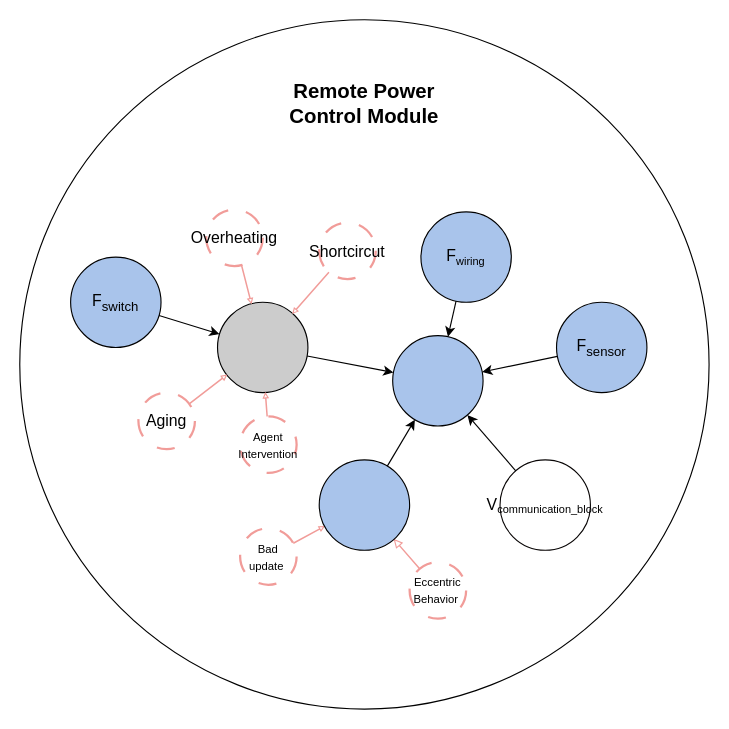
The diagram is 729 pixels wide and 729 high, and some of its shapes have lost their labels. Each missing label, with the box of its shape:
F RPCM: (392, 334, 483, 426)
F software: (318, 459, 410, 550)
H RPCM: (216, 301, 308, 393)
